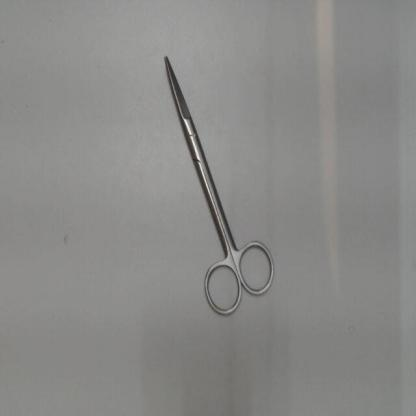Curved Mayo Scissors: (156, 43, 281, 327)
